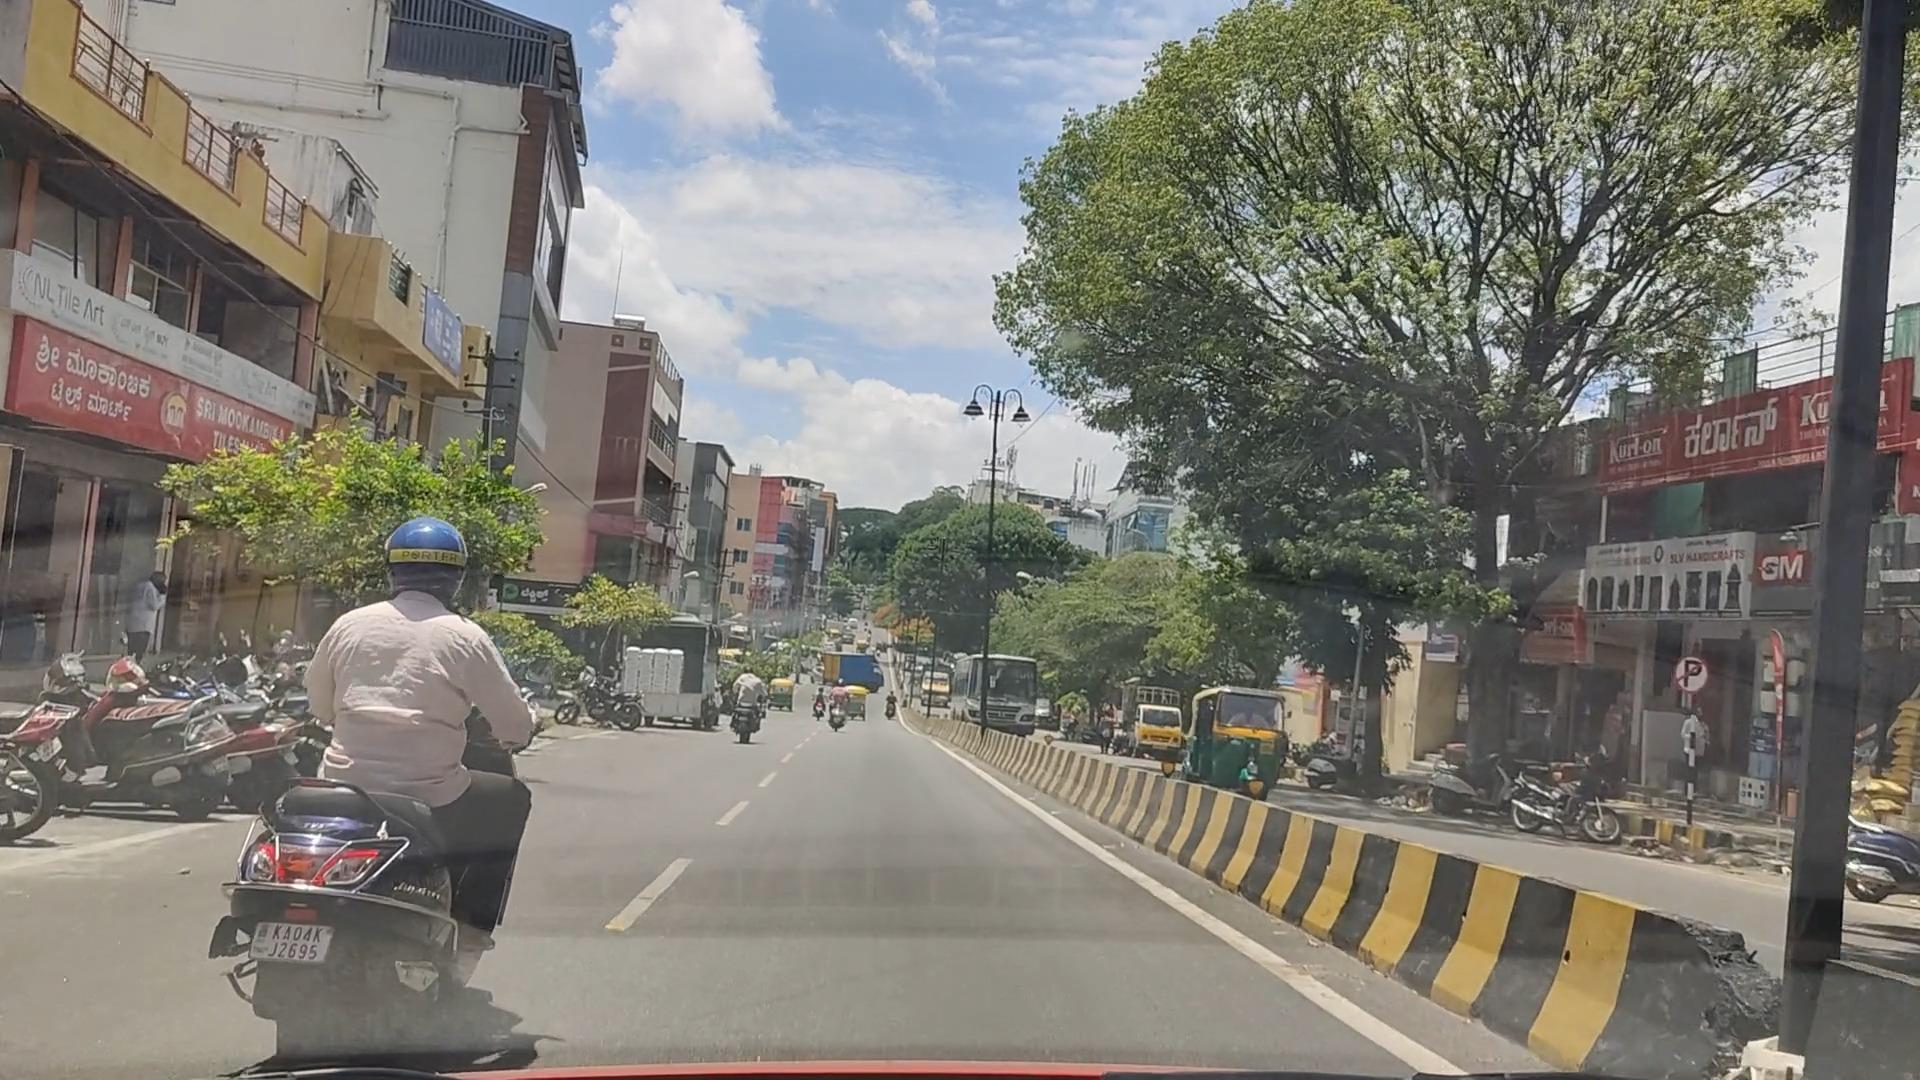LMV: (236, 496, 547, 1052)
